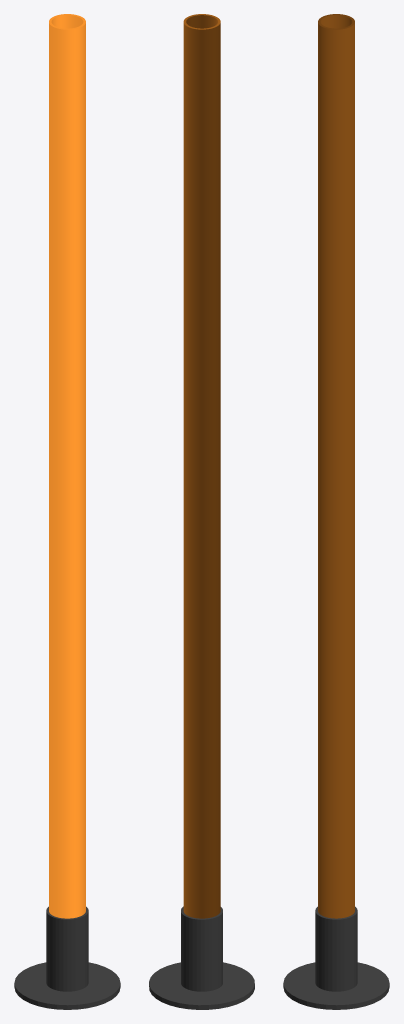
The model's file is pole.dae.
The picture shows the model from 3 angles, left to right: view 1: azimuth 90°, elevation 25°; view 2: azimuth 210°, elevation 25°; view 3: azimuth 270°, elevation 25°; orthographic projection.
Visible parts, largest first — view 1: vertical, stand; view 2: vertical, stand; view 3: vertical, stand.
Part boxes in pixels (bbox=[...]): vertical: bbox=[49, 14, 85, 918]; stand: bbox=[14, 906, 120, 1009]; vertical: bbox=[183, 14, 220, 918]; stand: bbox=[149, 906, 254, 1009]; vertical: bbox=[318, 14, 354, 918]; stand: bbox=[283, 906, 389, 1009].
Bounding box in the file's own units: 0.254 × 0.254 × 2.55.
